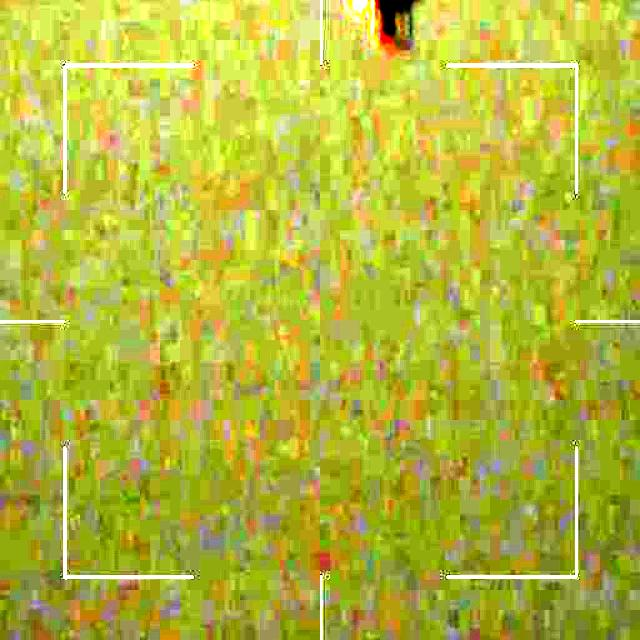bird: (342, 0, 441, 51)
